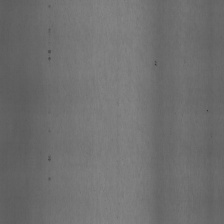oil_spot: (46, 26, 54, 63), (46, 146, 52, 185), (47, 1, 52, 10)
